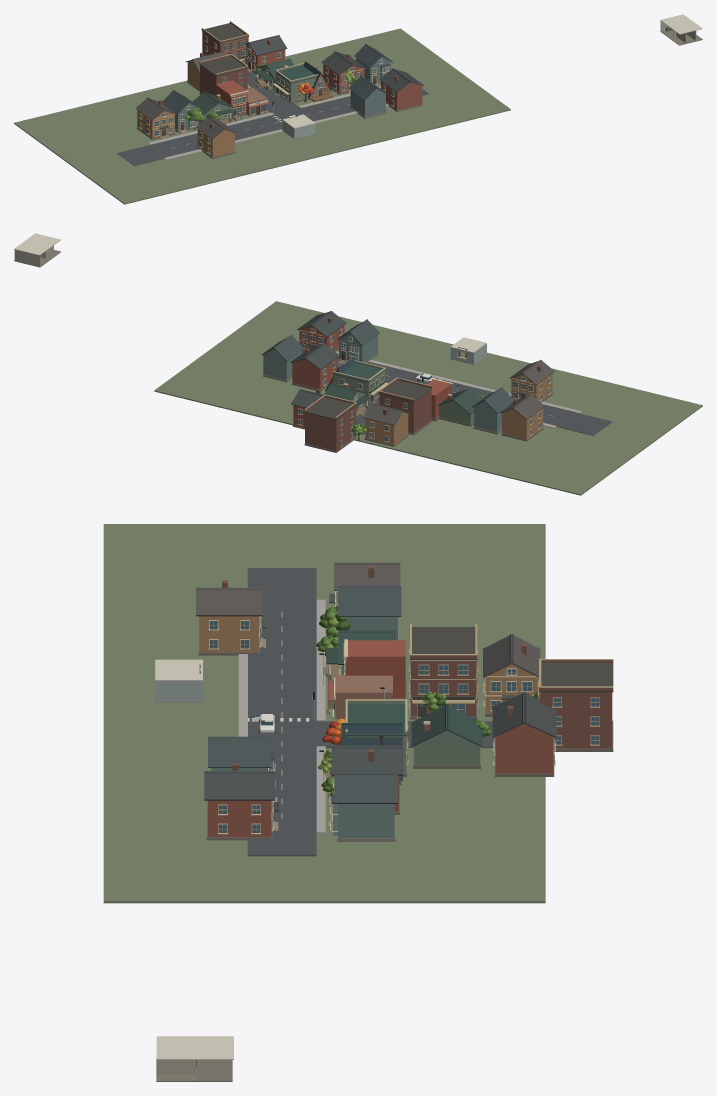
The model's file is set.glb.
3 views of the same model, one above another, from view 1: azimuth 30°, elevation 25°; view 2: azimuth 150°, elevation 25°; view 3: azimuth 270°, elevation 25° (orthographic). The views are drawn at different scales.
Visible parts, largest first — view 1: Terrain, Main street, Main building.007, Main building.003, Side street, Main building.008, Clapboard house.002, Brick shell, Main building.006, Flat roof.001, Main building, Sloping roof.017 (+17 smaller); view 2: Terrain, Main street, Main building.006, Main building.003, Main building.001, Main building.004, Main building, Flat roof.002, Clapboard house.001, Flat roof.001, Landing ceiling, Near sidewalk (+16 smaller); view 3: Terrain, Main street, Main building.006, Brick shell, Main building.005, Main building.007, Sloping roof.020, Clapboard house.001, Sloping roof.007, Sloping roof.013, Flat roof.002, Sloping roof.018 (+21 smaller).
Boxes of the visible parts, left/top/right/bottom form: Terrain: left=14, top=28, right=510, bottom=204; Main street: left=117, top=89, right=428, bottom=165; Main building.007: left=381, top=81, right=422, bottom=110; Main building.003: left=200, top=65, right=247, bottom=95; Side street: left=247, top=71, right=300, bottom=114; Main building.008: left=197, top=129, right=234, bottom=157; Clapboard house.002: left=350, top=90, right=385, bottom=116; Brick shell: left=216, top=80, right=247, bottom=115; Main building.006: left=202, top=31, right=248, bottom=63; Flat roof.001: left=199, top=56, right=248, bottom=76; Main building: left=137, top=110, right=174, bottom=138; Sloping roof.017: left=248, top=35, right=287, bottom=56; Terrain: left=154, top=301, right=702, bottom=495; Main street: left=302, top=352, right=612, bottom=435; Main building.006: left=305, top=406, right=356, bottom=450; Main building.003: left=379, top=389, right=431, bottom=433; Main building.001: left=292, top=357, right=337, bottom=389; Main building.004: left=365, top=414, right=408, bottom=444; Main building: left=502, top=408, right=543, bottom=439; Flat roof.002: left=304, top=397, right=356, bottom=419; Clapboard house.001: left=263, top=351, right=302, bottom=380; Flat roof.001: left=378, top=380, right=432, bottom=402; Landing ceiling: left=14, top=233, right=60, bottom=255; Near sidewalk: left=336, top=351, right=582, bottom=413; Terrain: left=103, top=524, right=545, bottom=903; Main street: left=247, top=568, right=316, bottom=856; Main building.006: left=540, top=692, right=612, bottom=748; Brick shell: left=345, top=640, right=405, bottom=698; Main building.005: left=495, top=735, right=553, bottom=773; Main building.007: left=207, top=800, right=271, bottom=836; Sloping roof.020: left=204, top=771, right=274, bottom=800; Clapboard house.001: left=338, top=804, right=394, bottom=838; Sloping roof.007: left=338, top=585, right=401, bottom=616; Sloping roof.013: left=334, top=772, right=397, bottom=803; Flat roof.002: left=539, top=663, right=613, bottom=692; Sloping roof.018: left=208, top=736, right=271, bottom=767.
Size of the model in its own units: 161 by 8.68 by 59.97.
